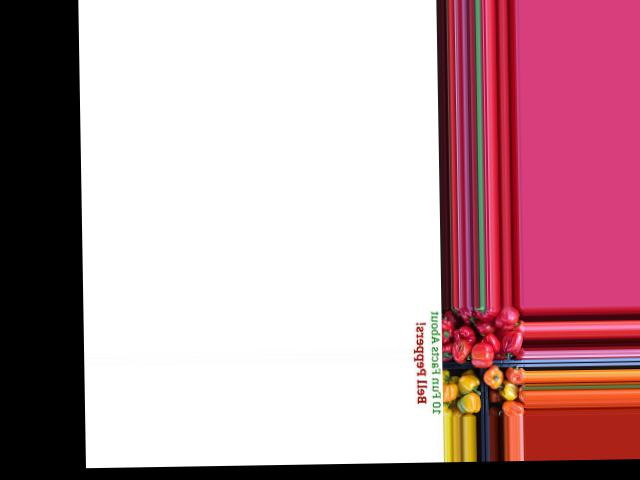bell_pepper: (438, 318, 458, 349)
